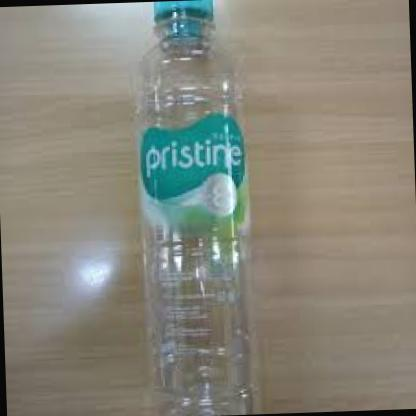plastic_bottles: (129, 0, 259, 416)
